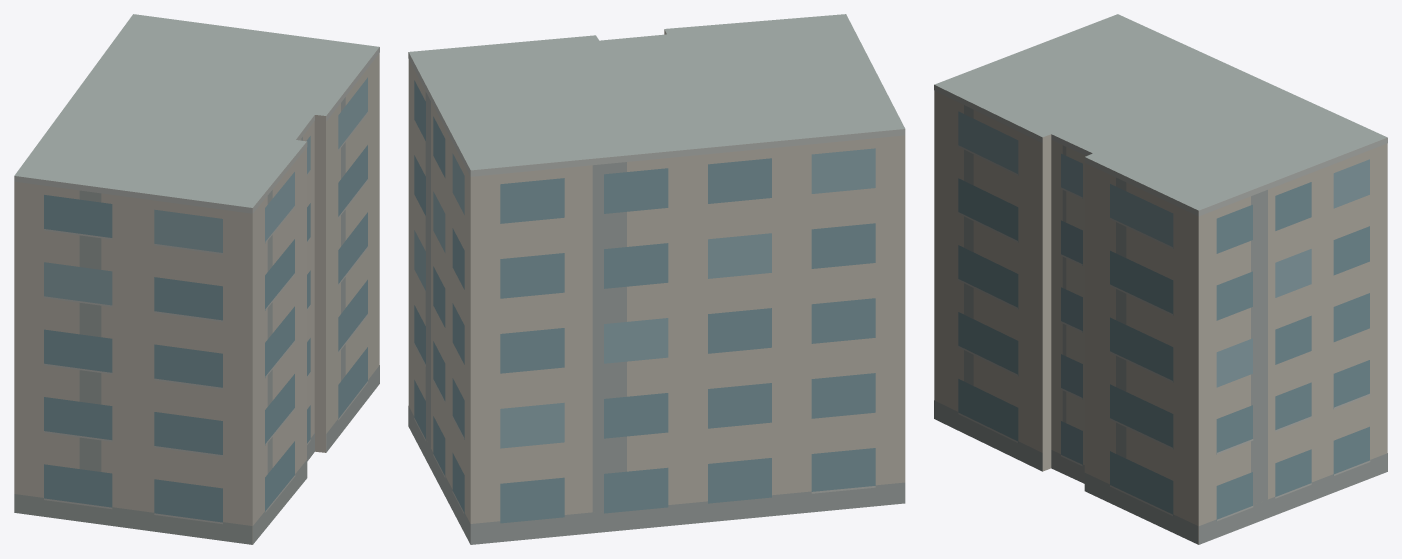
File: survey-upis-32633594.glb
The picture shows the model from 3 angles, left to right: view 1: azimuth 30°, elevation 25°; view 2: azimuth 150°, elevation 25°; view 3: azimuth 270°, elevation 25°; orthographic projection. The views are drawn at different scales.
Visible parts, largest first — view 1: survey-upis-32633594.tmp; view 2: survey-upis-32633594.tmp; view 3: survey-upis-32633594.tmp.
Part boxes in pixels (x1,y1,x2,y2): survey-upis-32633594.tmp: (14, 14, 379, 544); survey-upis-32633594.tmp: (408, 14, 905, 544); survey-upis-32633594.tmp: (934, 14, 1387, 544).
Bounding box in the file's own units: 17.8 × 14.1 × 17.35.
